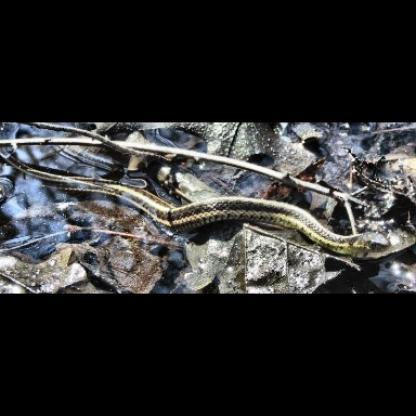Snake: (12, 145, 391, 257)
